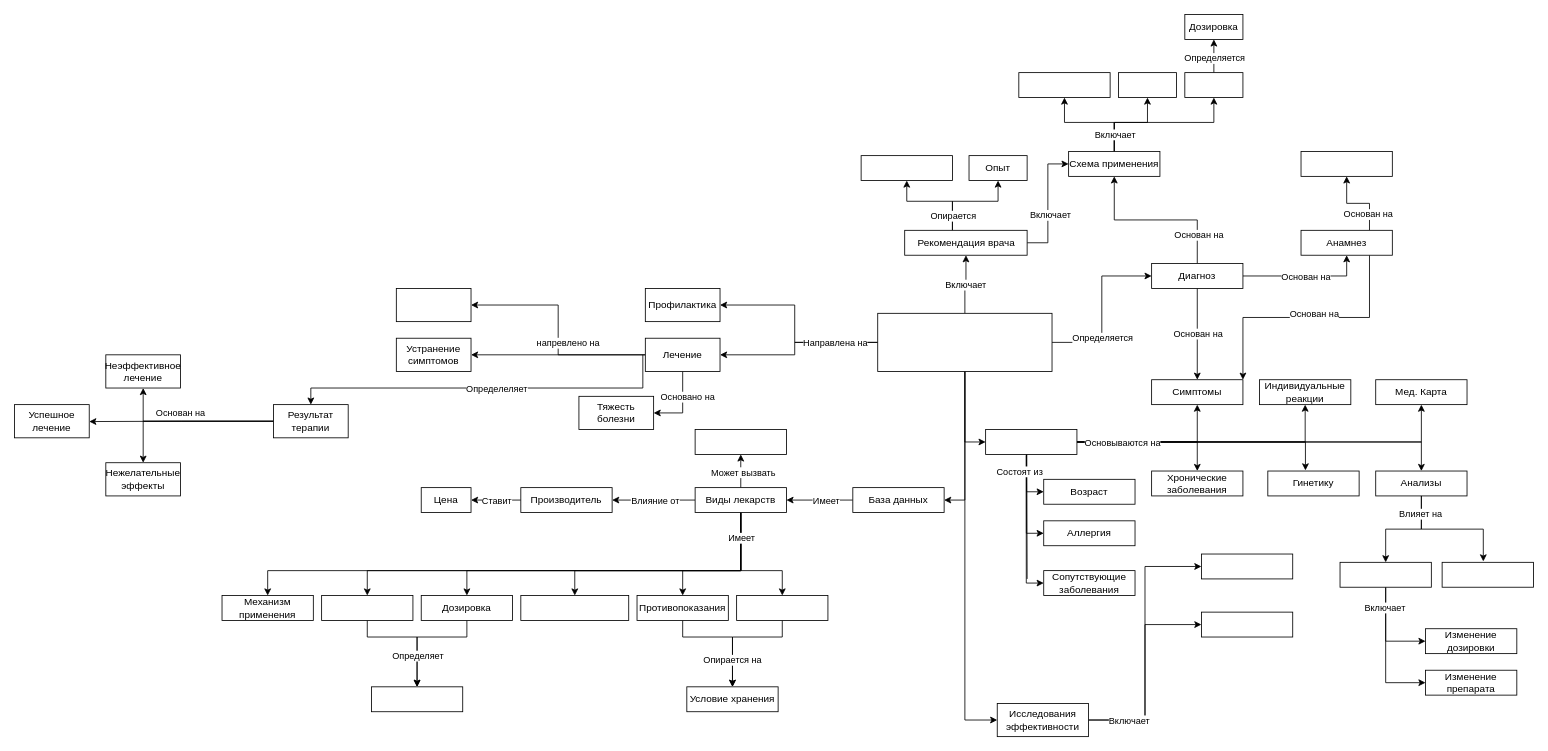
Image size: 1548x751. Some labels were removed from this diagram. The centre of each missing label's shape, as x and y in pixels:
Активное вещество: point (574, 607)
Выбор лекарственных средств: point (964, 341)
Данные пациента: point (1031, 441)
Длительность: point (1064, 85)
Клинические испытания: point (1247, 566)
Корректировка лечения: point (1385, 574)
Осмотр пациента: point (1346, 163)
Побочки: point (740, 441)
Побочные эффекты: point (417, 699)
Постановка диагноза: point (1487, 574)
Режим: point (1147, 85)
Рекомендации к применению: point (1247, 624)
Специализация: point (906, 168)
Срок годности: point (367, 607)
Устранение болезни: point (433, 305)
Форма выпуска: point (782, 607)
Частоту: point (1213, 85)
